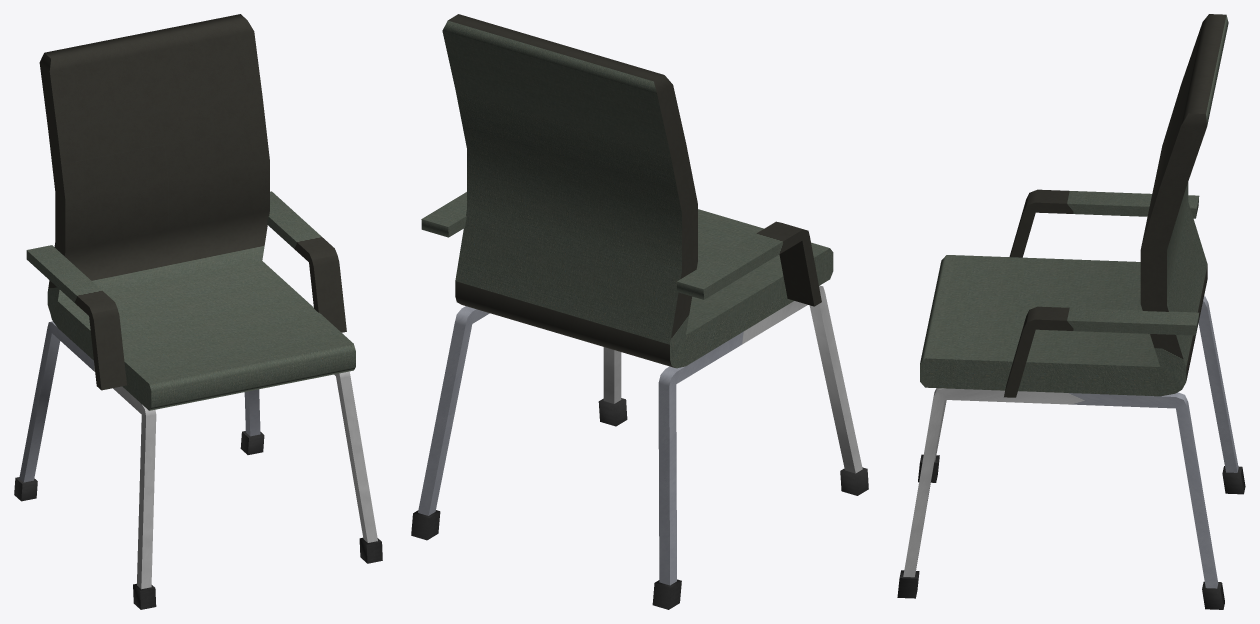
File: LGSeocho25OfficeChair.fbx
3 views of the same model, side by side, from view 1: azimuth 30°, elevation 25°; view 2: azimuth 150°, elevation 25°; view 3: azimuth 270°, elevation 25° (orthographic). The views are drawn at different scales.
Visible parts, largest first — view 1: LGSeocho25Fabric, LGSeocho25Metal, LGSeochoRubber; view 2: LGSeocho25Fabric, LGSeocho25Metal, LGSeochoRubber; view 3: LGSeocho25Fabric, LGSeocho25Metal, LGSeochoRubber.
Boxes of the visible parts, <box> form: LGSeocho25Fabric: <box>26,14,355,410</box>; LGSeocho25Metal: <box>19,321,377,589</box>; LGSeochoRubber: <box>14,431,382,609</box>; LGSeocho25Fabric: <box>421,14,833,368</box>; LGSeocho25Metal: <box>418,285,862,585</box>; LGSeochoRubber: <box>411,398,868,609</box>; LGSeocho25Fabric: <box>920,14,1228,397</box>; LGSeocho25Metal: <box>903,296,1238,588</box>; LGSeochoRubber: <box>897,454,1245,609</box>.
Bounding box in the file's own units: 62.7 × 103 × 67.17.
